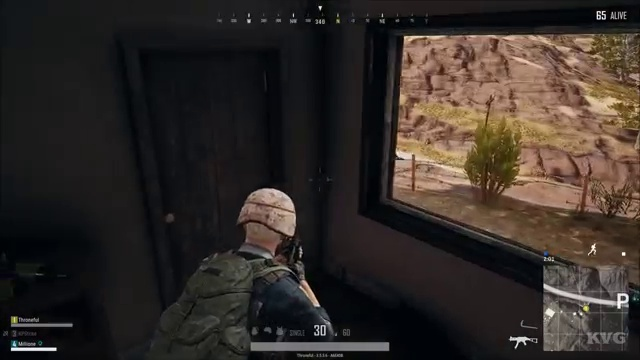Player: (146, 175, 388, 315)
